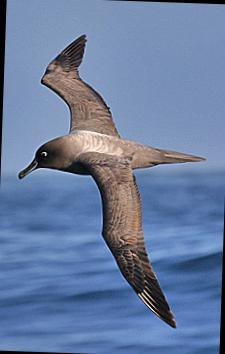bird: (8, 24, 214, 334)
